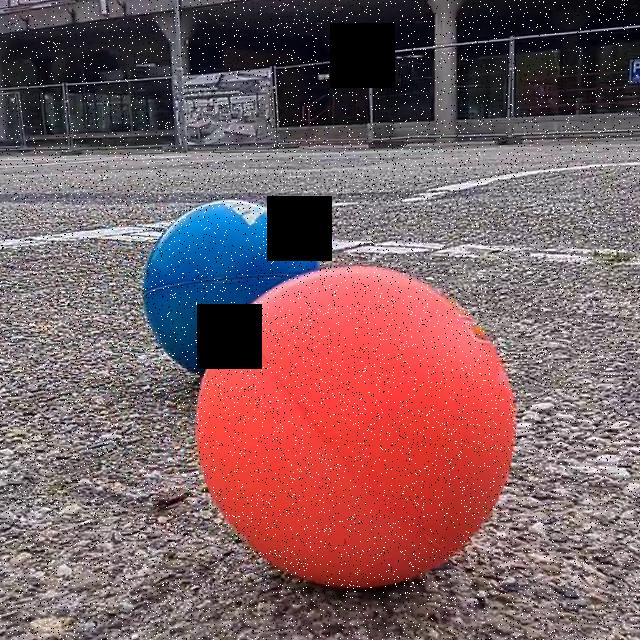ball: (190, 262, 519, 591), (138, 202, 310, 336)
